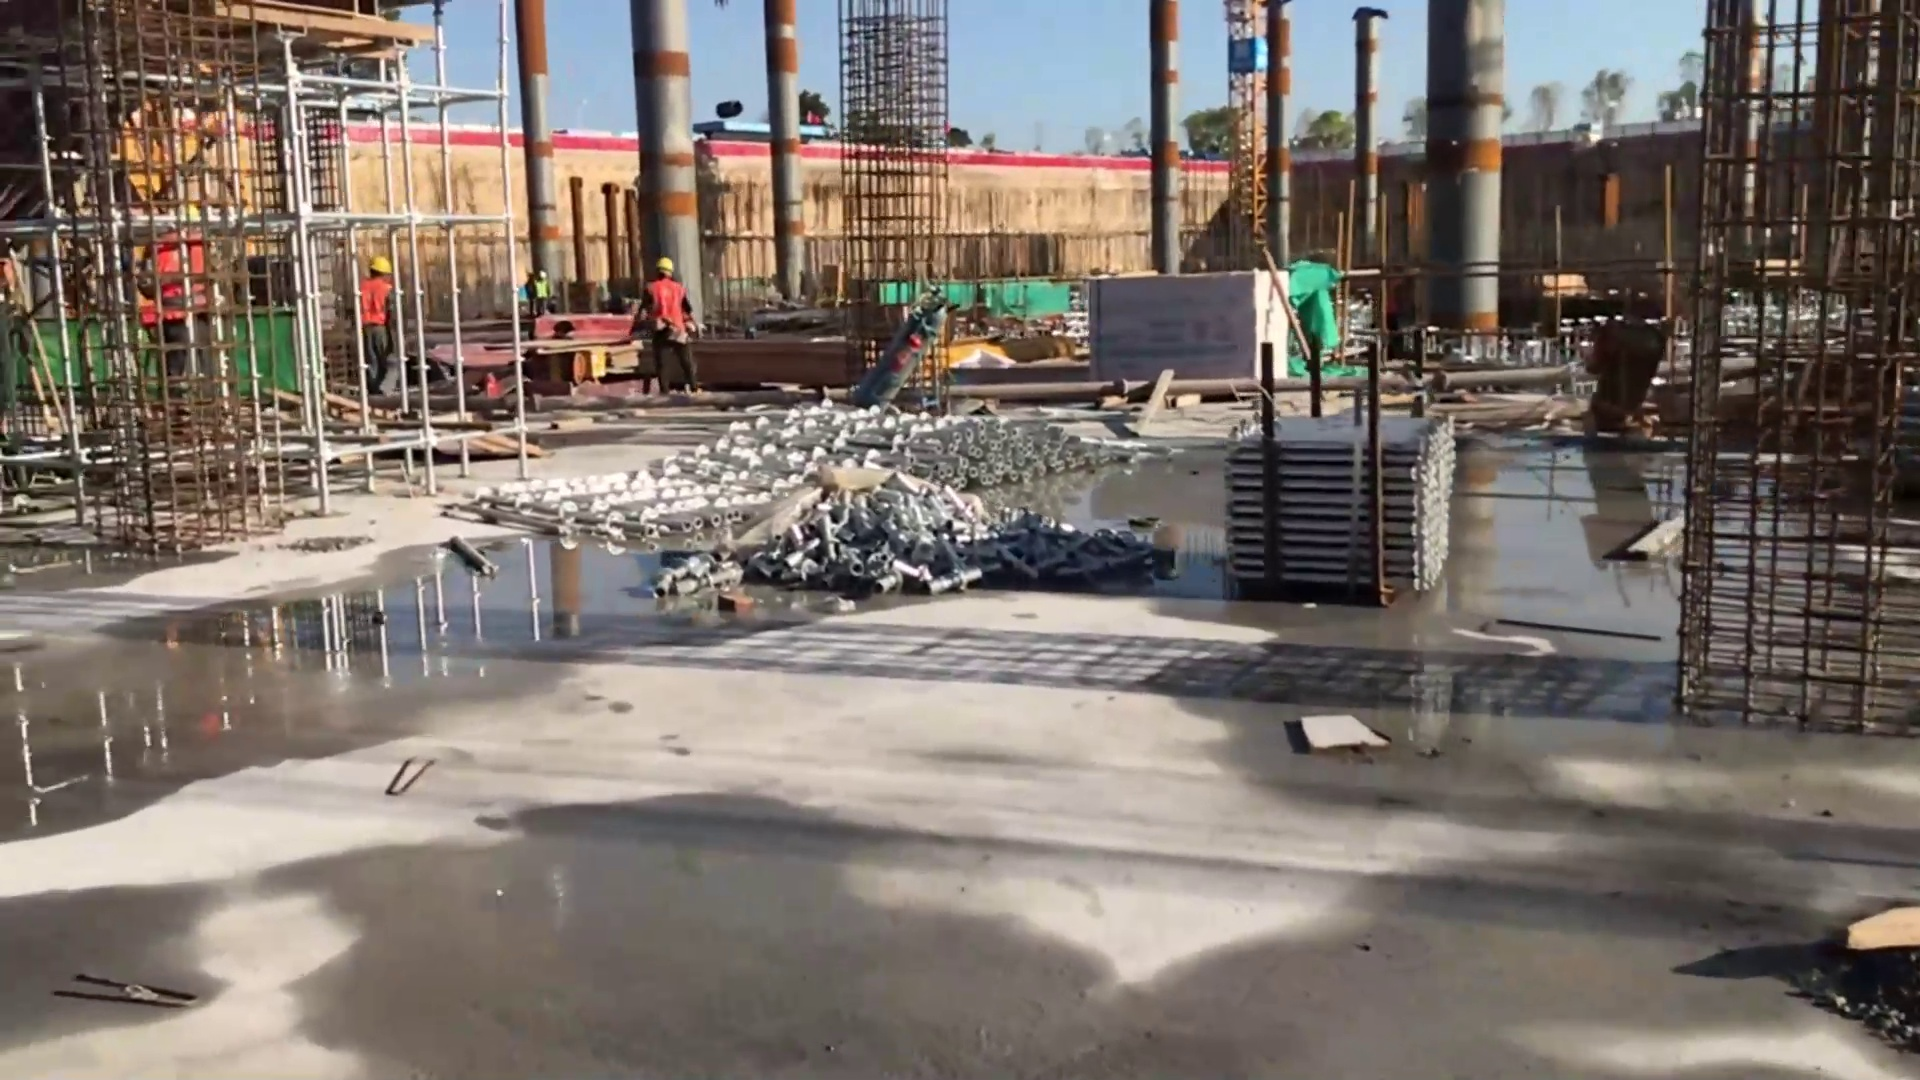helmet: (370, 255, 393, 273), (655, 258, 676, 277)
person: (633, 253, 701, 396), (358, 256, 402, 392), (528, 266, 552, 315)
